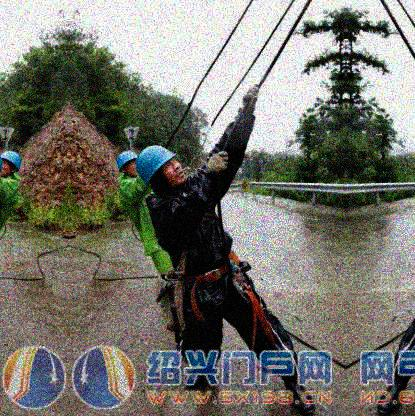helmet: (134, 144, 187, 190), (114, 150, 139, 178), (1, 149, 21, 175)
